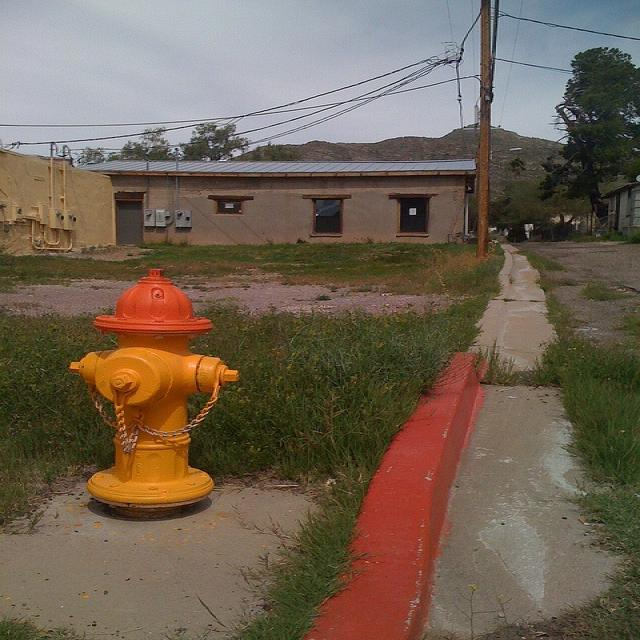fire_hydrant: (63, 269, 236, 519)
pole: (468, 0, 497, 259)
